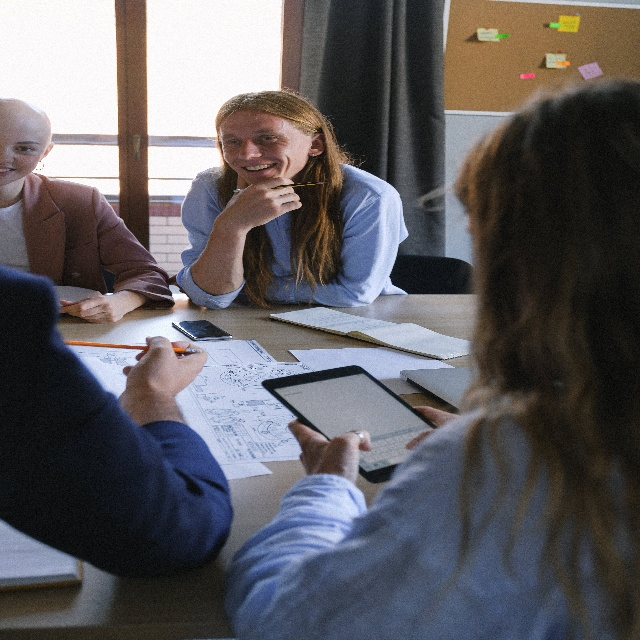Sin_guantes: (115, 334, 206, 407), (286, 420, 372, 477), (220, 172, 302, 230), (61, 295, 128, 333)
